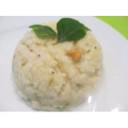venpongal: (13, 24, 103, 107)
